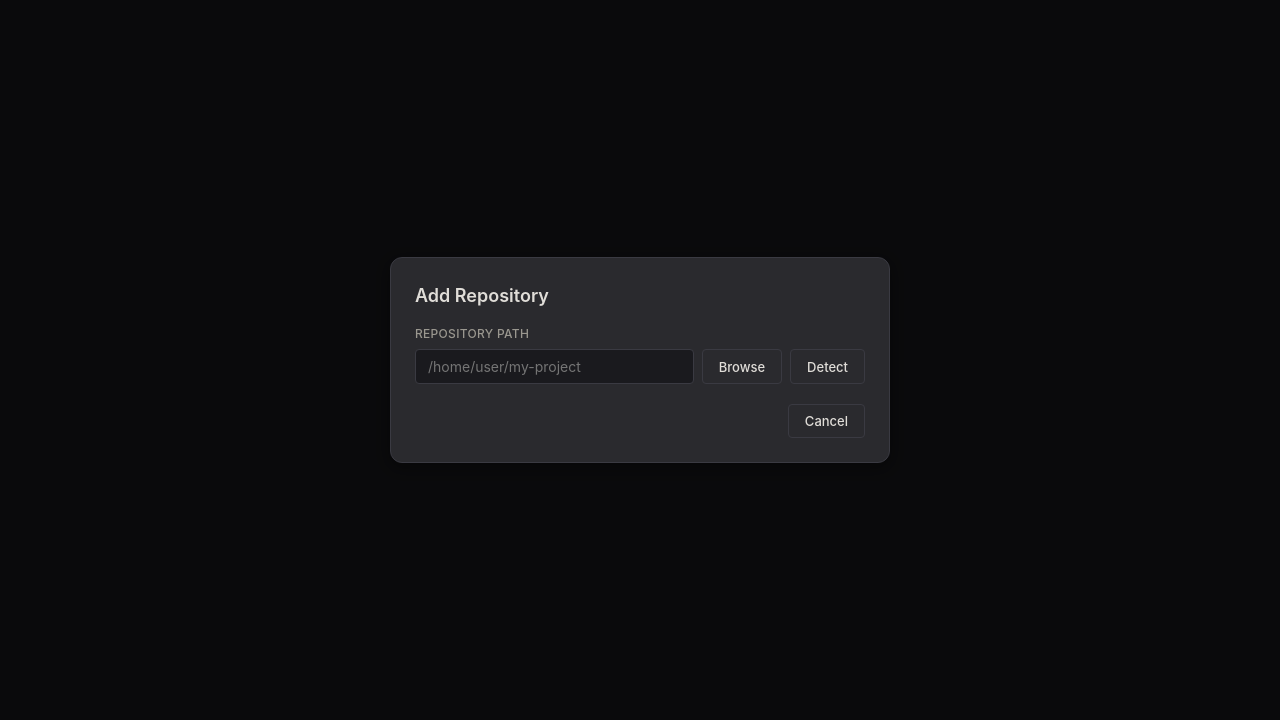
Test: AddRepoModal › shows form fields after successful detection
The image size is (1280, 720).
In the field with placeholder "/home/user/my-project": [554, 366] box [415,349,694,384], type "/some/path"
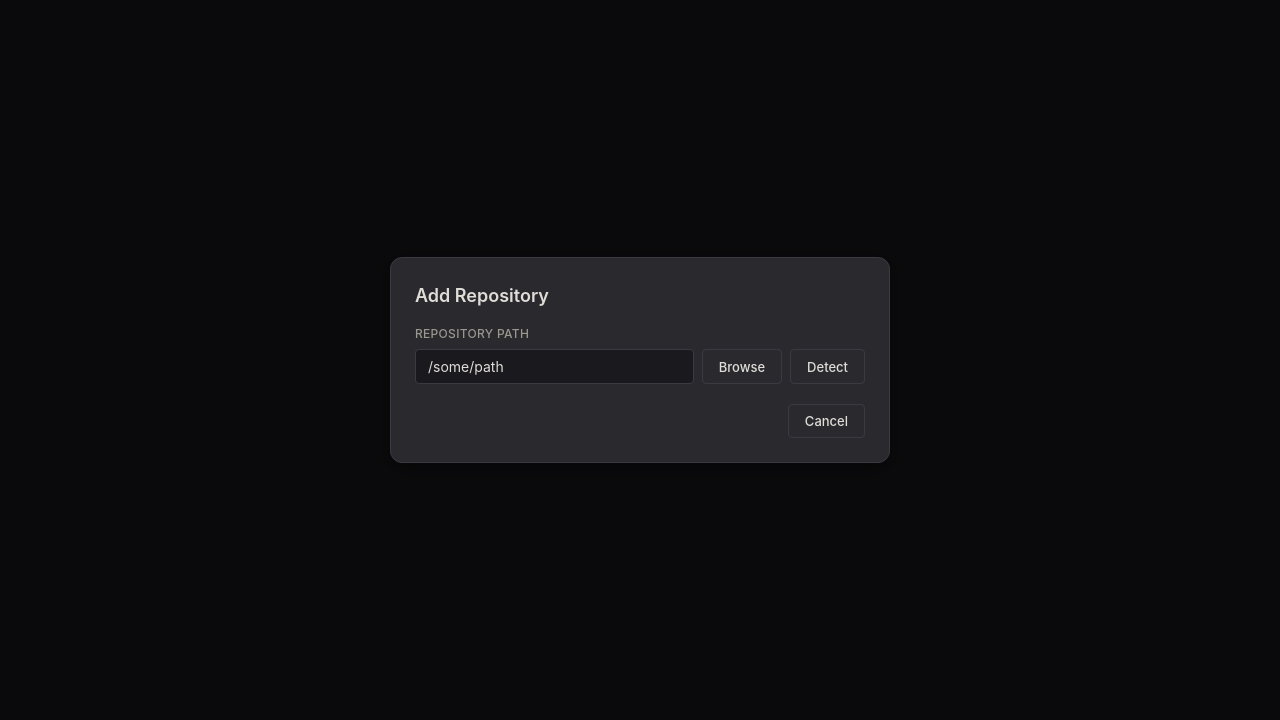
Click the button "Detect": [828, 366] box [790,349,865,384]
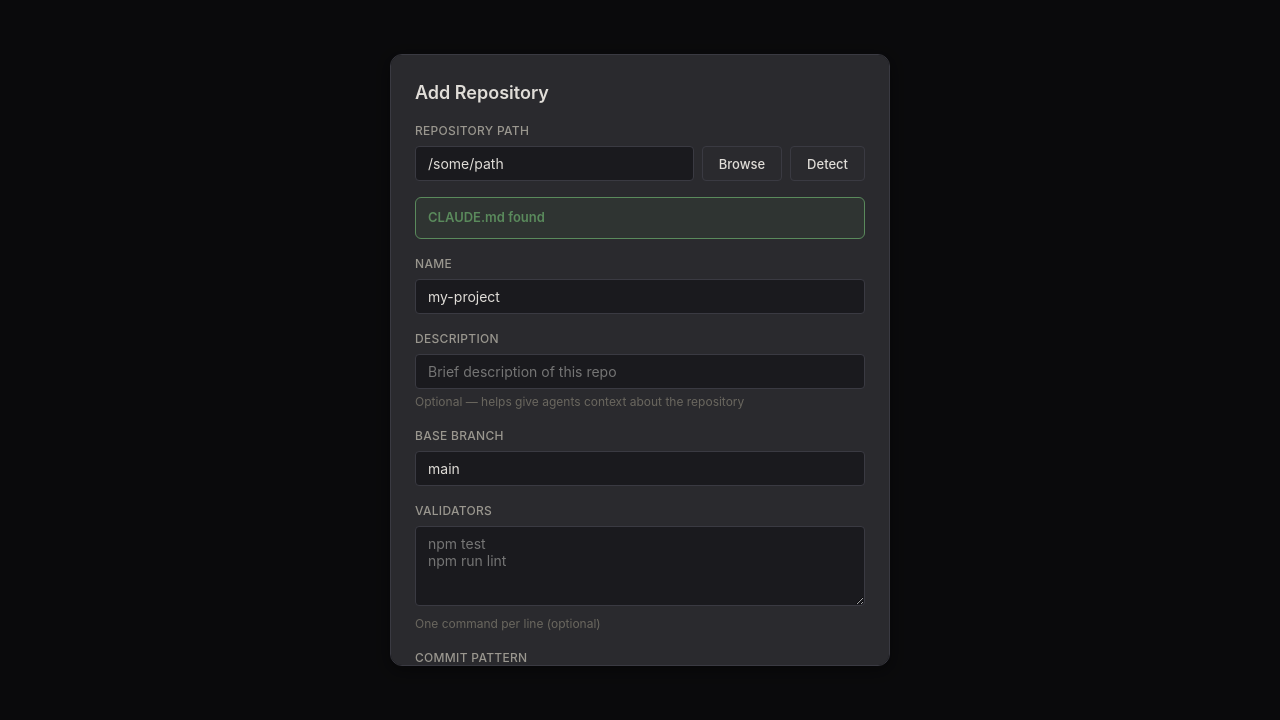
Expected: the field showing "my-project" below "Name" is shown, [415,278,865,314]
Expected: the field showing "main" below "Base Branch" is shown, [415,450,865,486]
Expected: the field with placeholder "Brief description of this repo" is shown, [415,354,865,388]
